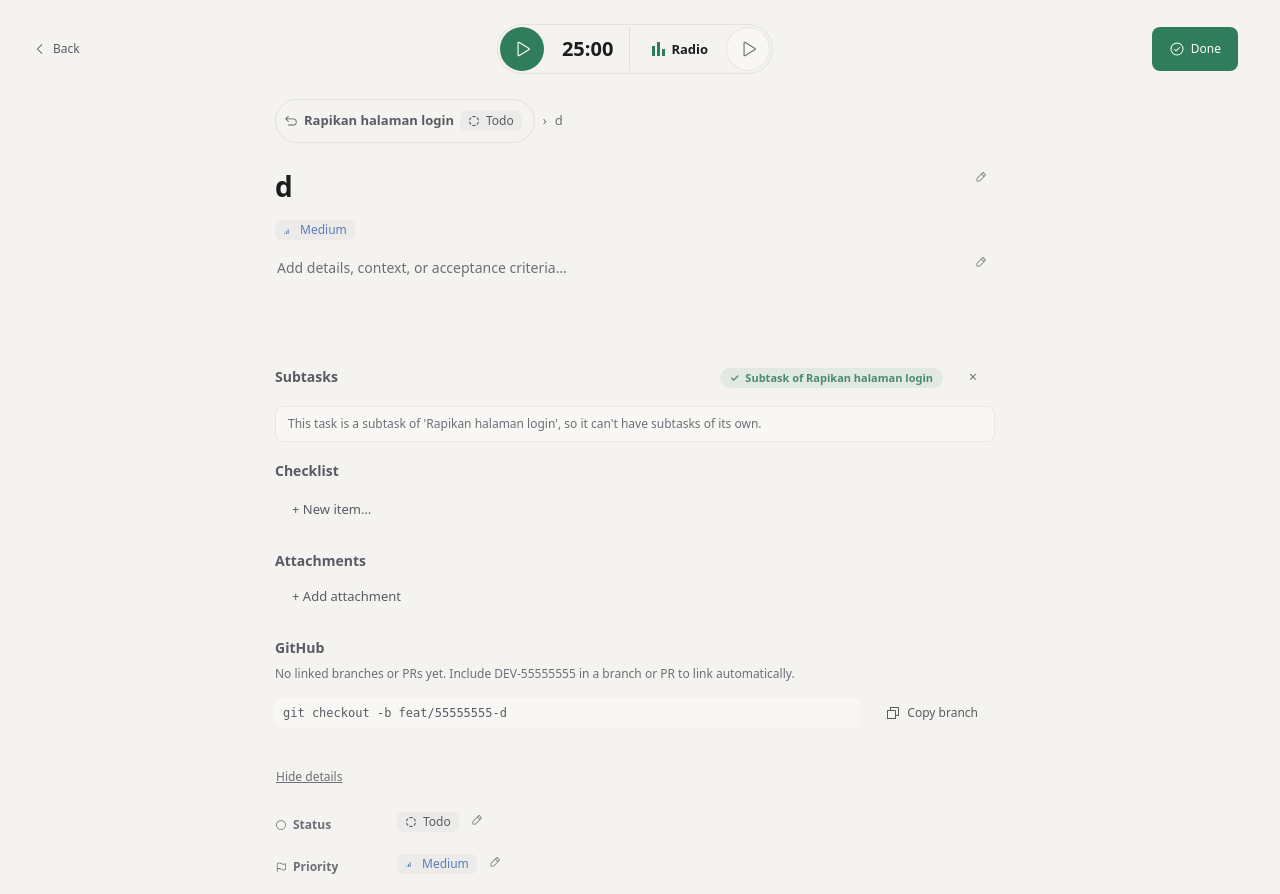
Test case: FocusPage › subtask crumb navigates back to the parent
Click the button with aria-label "Back to parent task": point(405, 121) [275,99,535,143]
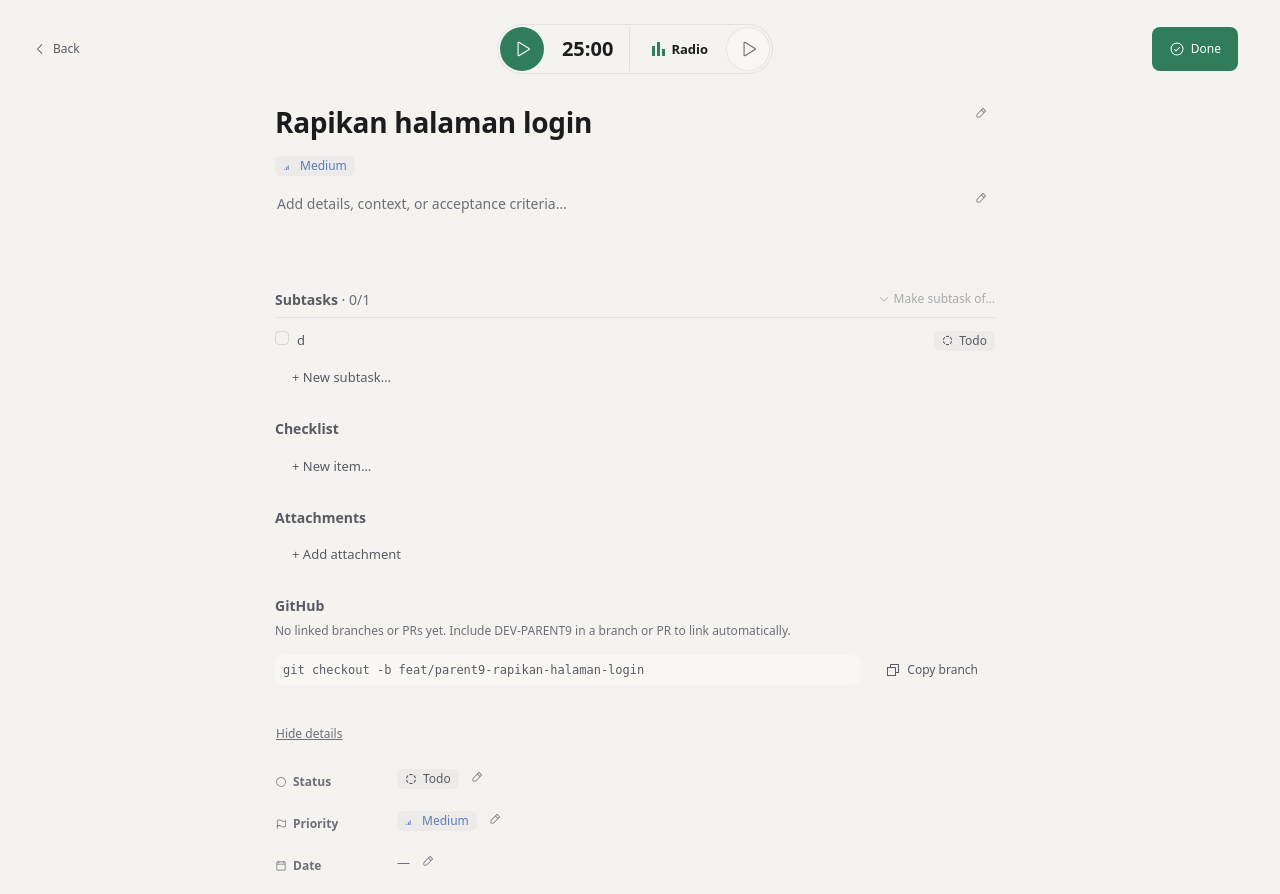
Expected: the button "+ New subtask…" is shown, [275,356,995,400]
